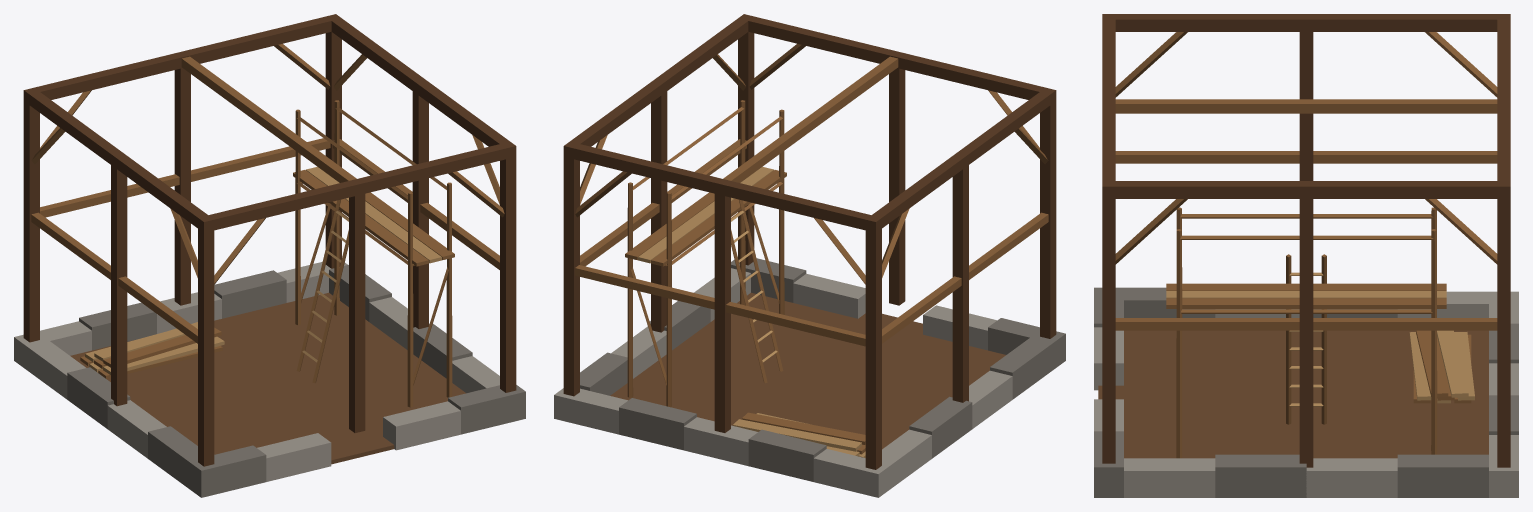
Rendered from site_5x5_2.glb.
3 renders of one model, left to right at view 1: azimuth 30°, elevation 25°; view 2: azimuth 150°, elevation 25°; view 3: azimuth 270°, elevation 25°, orthographic. The views are drawn at different scales.
Visible parts, largest first — view 1: site_5x5_2; view 2: site_5x5_2; view 3: site_5x5_2.
Boxes of the visible parts, box(x1,y1,x2,y2) form: site_5x5_2: box(14, 14, 525, 497); site_5x5_2: box(554, 14, 1065, 497); site_5x5_2: box(1094, 14, 1518, 497).
Bounding box in the file's own units: 5 × 4 × 5.
